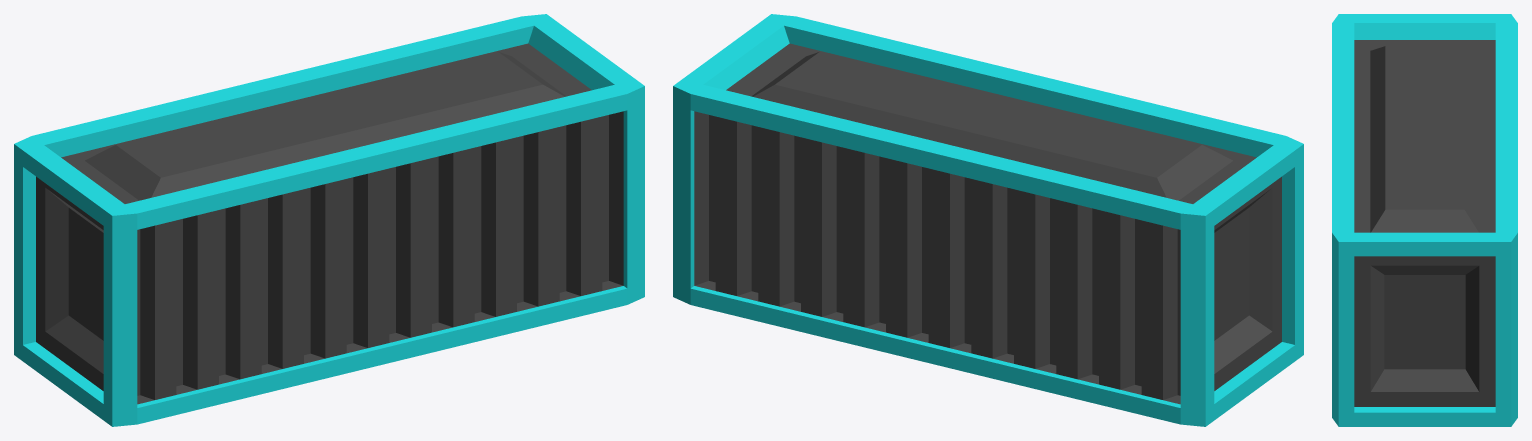
File: ContainerBlue.fbx
The picture shows the model from 3 angles, left to right: view 1: azimuth 30°, elevation 25°; view 2: azimuth 150°, elevation 25°; view 3: azimuth 270°, elevation 25°; orthographic projection. The views are drawn at different scales.
Parts seen in each view (by area): view 1: ContainerBlue; view 2: ContainerBlue; view 3: ContainerBlue.
Boxes of the visible parts, bbox=[...] form: ContainerBlue: bbox=[14, 14, 644, 426]; ContainerBlue: bbox=[673, 14, 1303, 426]; ContainerBlue: bbox=[1332, 14, 1517, 426].
Bounding box in the file's own units: 4.08 × 1.55 × 1.4.
